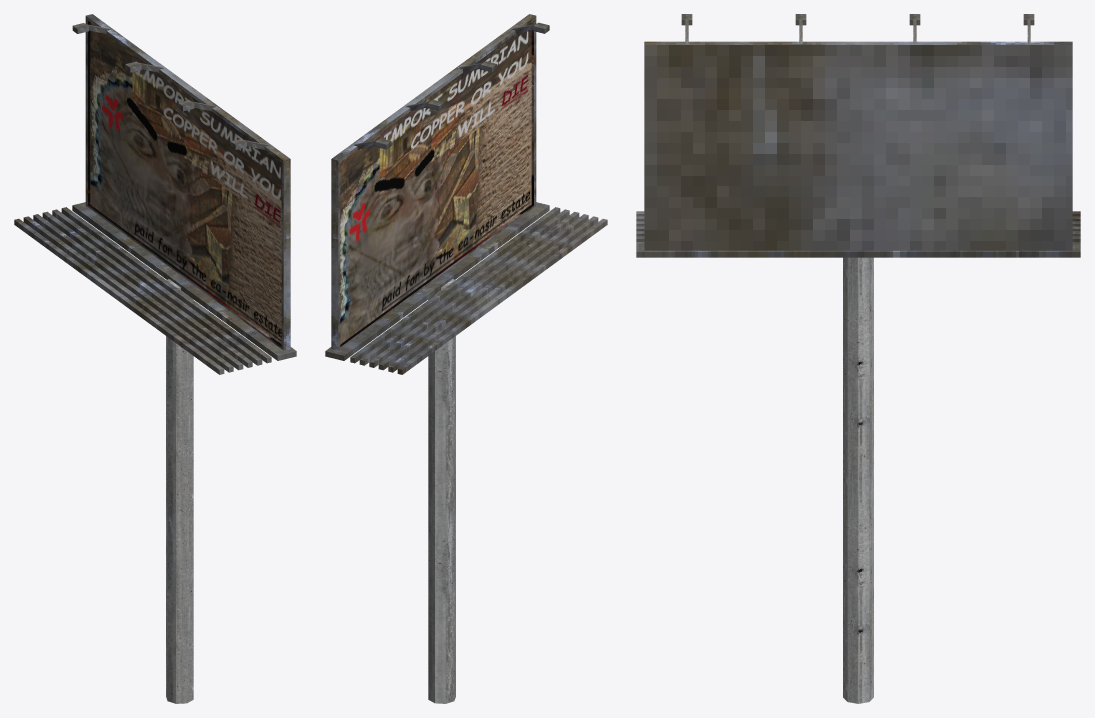
The model's file is billboardeanazir.glb.
3 renders of one model, left to right at view 1: azimuth 30°, elevation 25°; view 2: azimuth 150°, elevation 25°; view 3: azimuth 270°, elevation 25°, orthographic. The views are drawn at different scales.
Parts seen in each view (by area): view 1: board, floor, Cylinder, Cube; view 2: board, floor, Cylinder, Cube; view 3: board, Cylinder, floor, Cube.
Part boxes in pixels (x1,y1,x2,y2): board: (85, 14, 290, 350); floor: (14, 202, 296, 374); Cylinder: (166, 279, 193, 703); Cube: (72, 23, 268, 149); board: (331, 14, 536, 350); floor: (325, 202, 607, 374); Cylinder: (428, 279, 455, 703); Cube: (353, 22, 549, 149); board: (644, 41, 1072, 250); Cylinder: (843, 257, 873, 703); floor: (636, 211, 1080, 257); Cube: (681, 14, 1034, 43).
Size of the model in its own units: 6.11 by 46.88 by 28.2.
4 materials, 4 textured.
